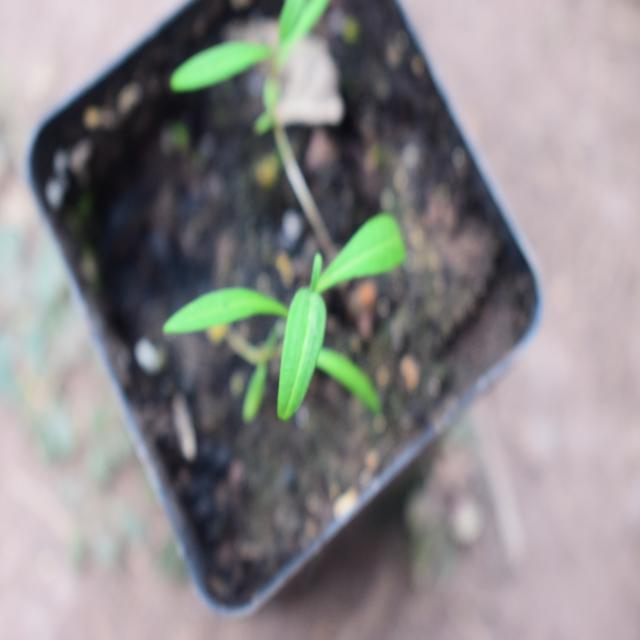white_smart_weed: (155, 178, 432, 454)
